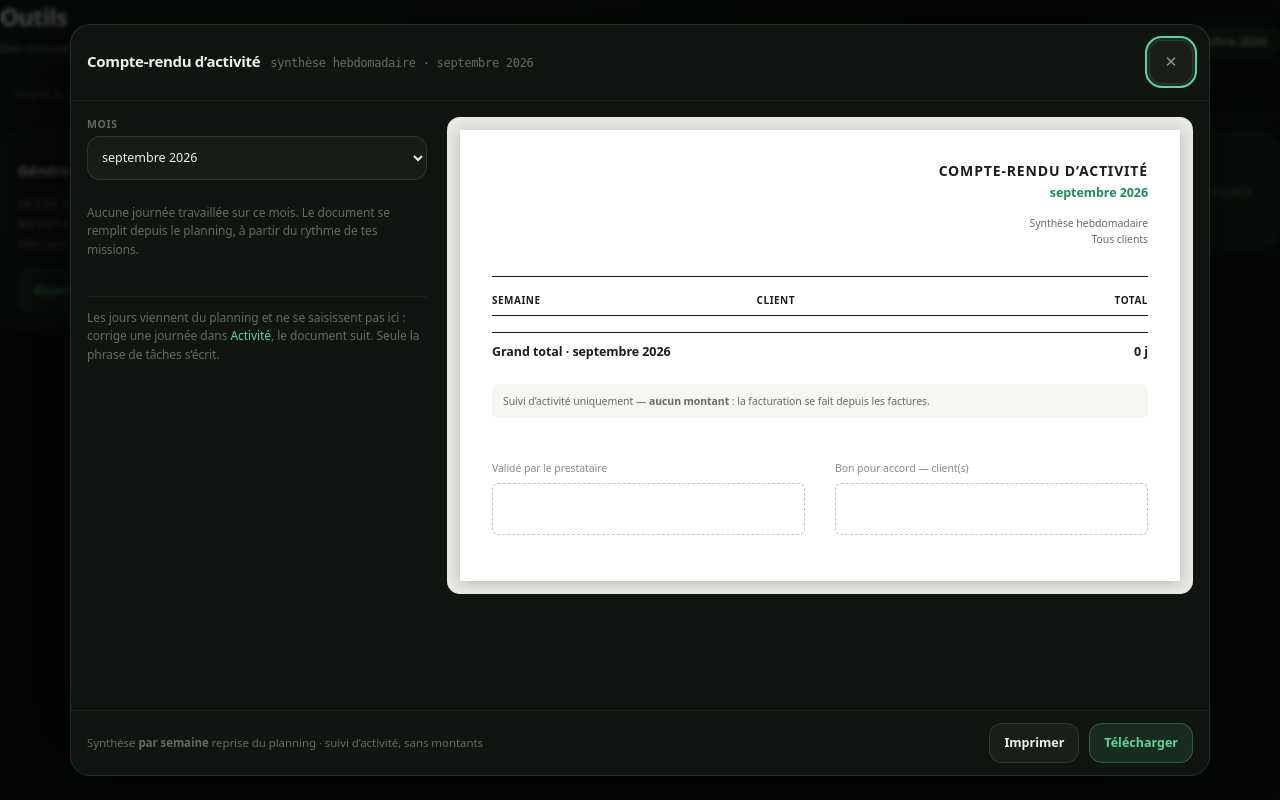
Test case: la sous-route du générateur › se referme sans quitter l’onglet
Click the button named "Fermer" at (1171, 62), box [1149,40,1193,84]
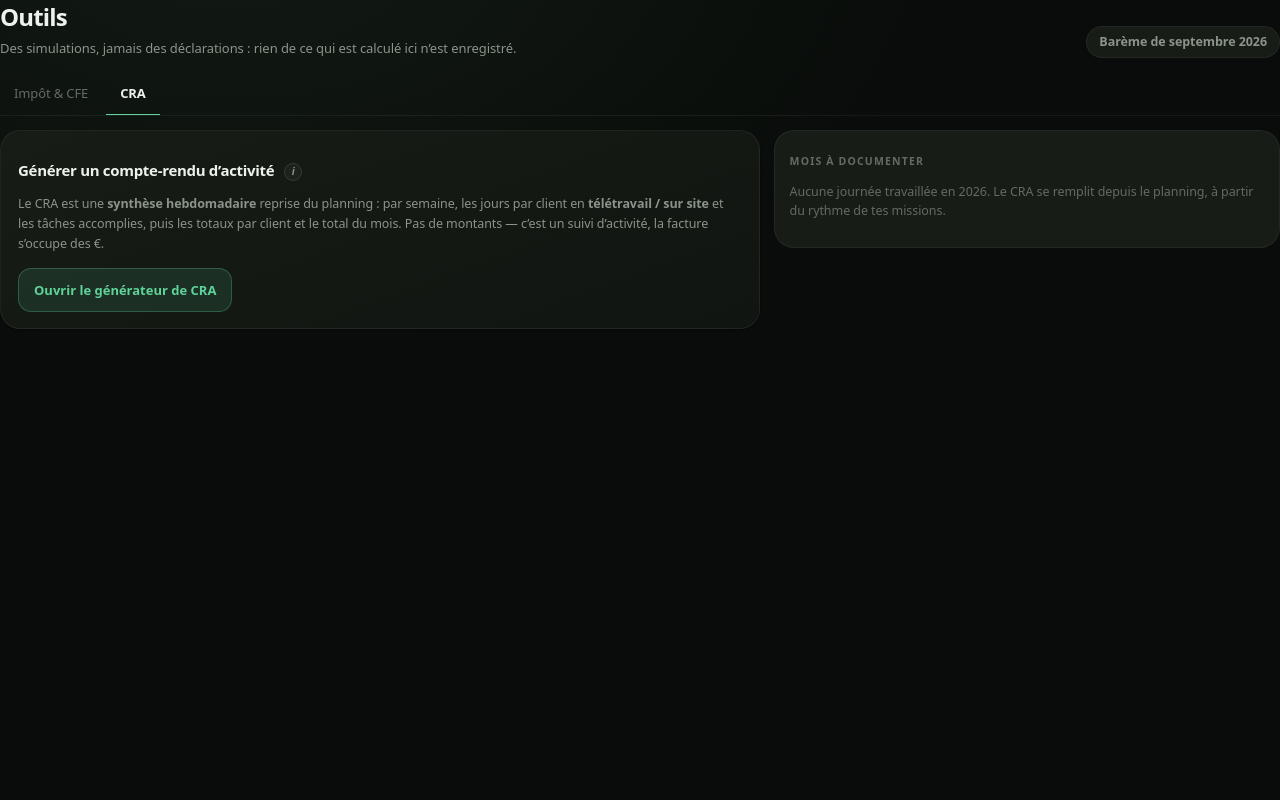
Expected: the dialog is gone
